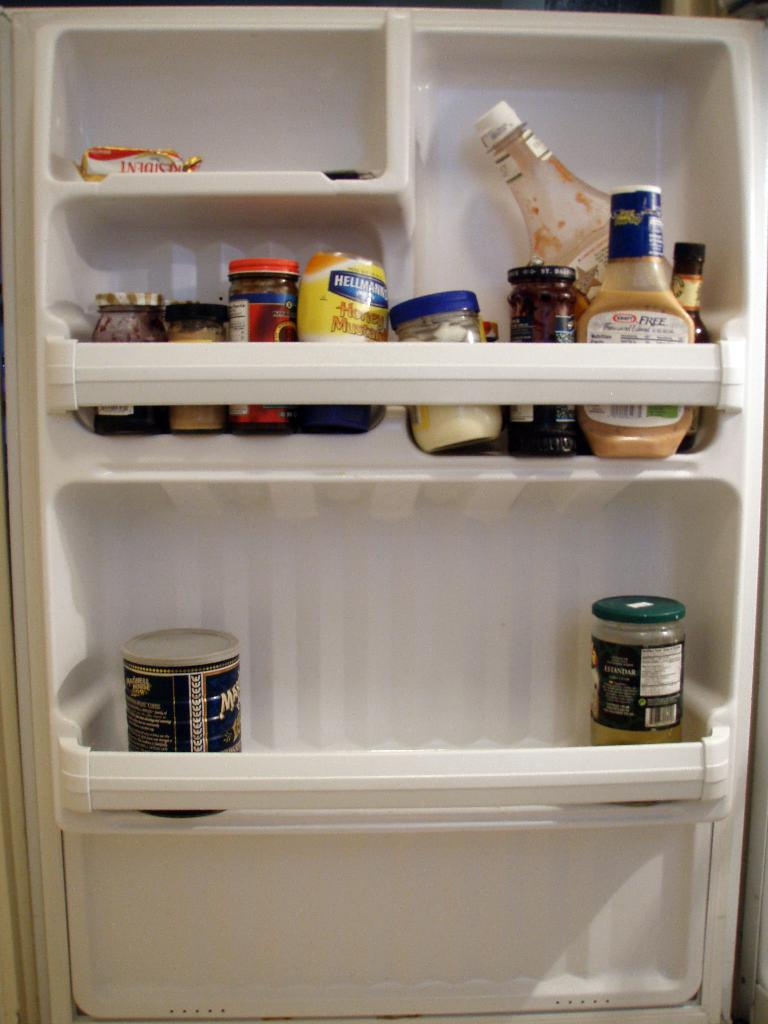refrigerator door: (27, 54, 731, 1024)
